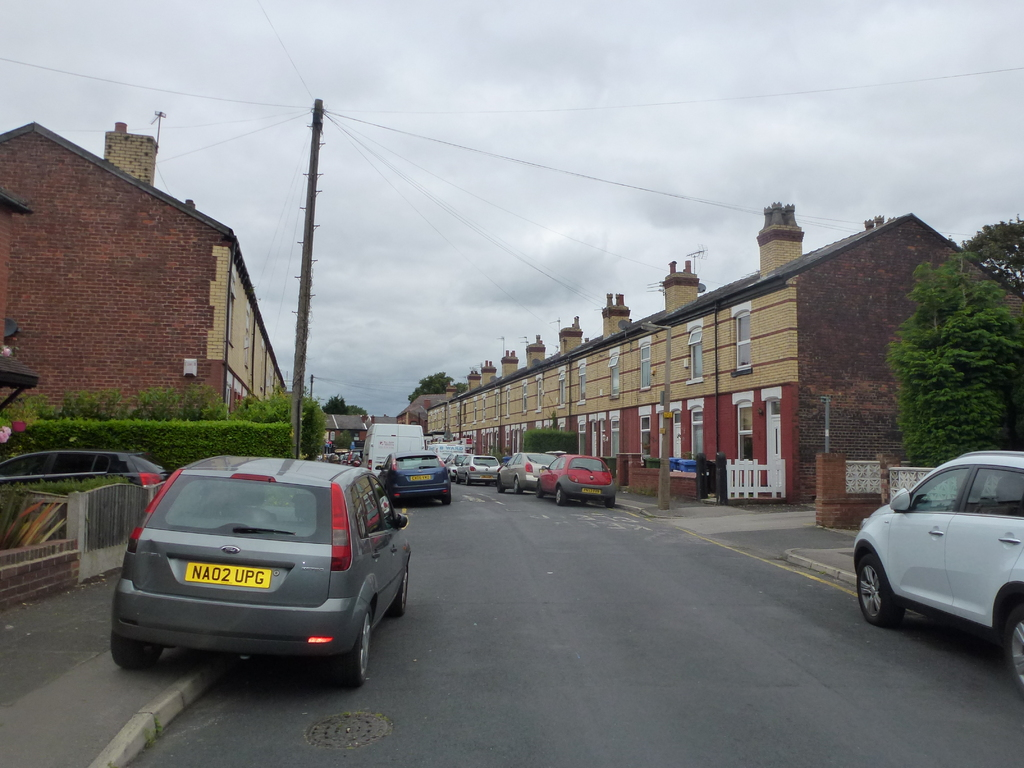license plate: (187, 556, 270, 580)
